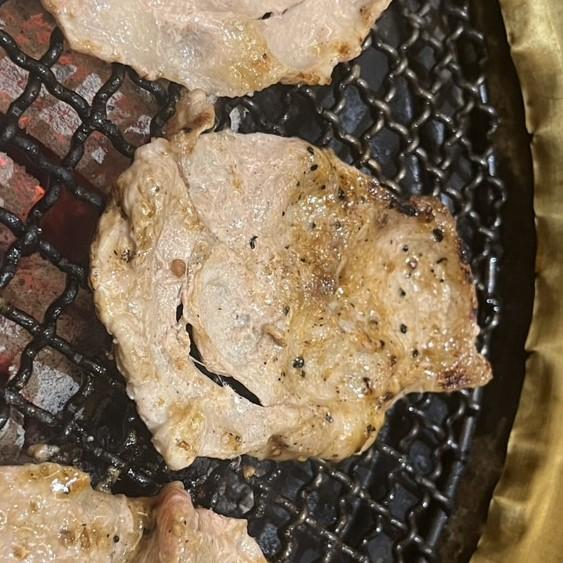Overcooked: (91, 130, 493, 471)
Well-Cooked: (38, 0, 396, 101), (0, 464, 266, 562)
